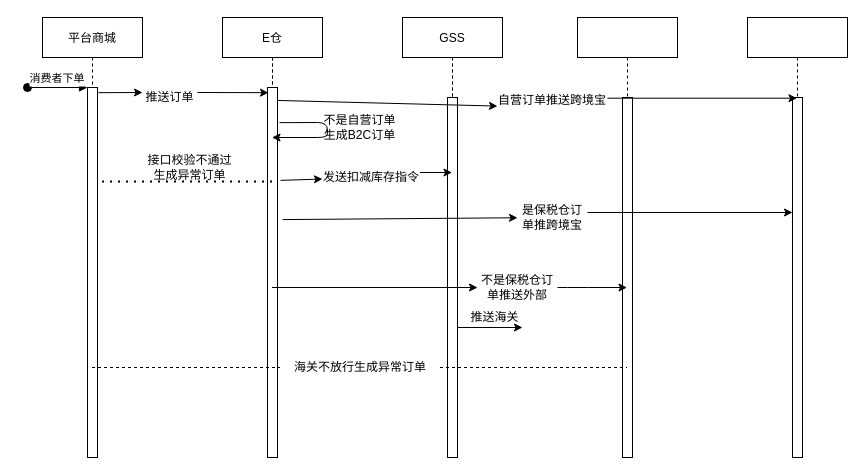
Some shapes in this 865 by 475 pixel diagram are drawn without their labels. Each missing label, with the box of its shape:
外仓供应系统: (576, 16, 678, 458)
跨境宝: (746, 16, 848, 458)
